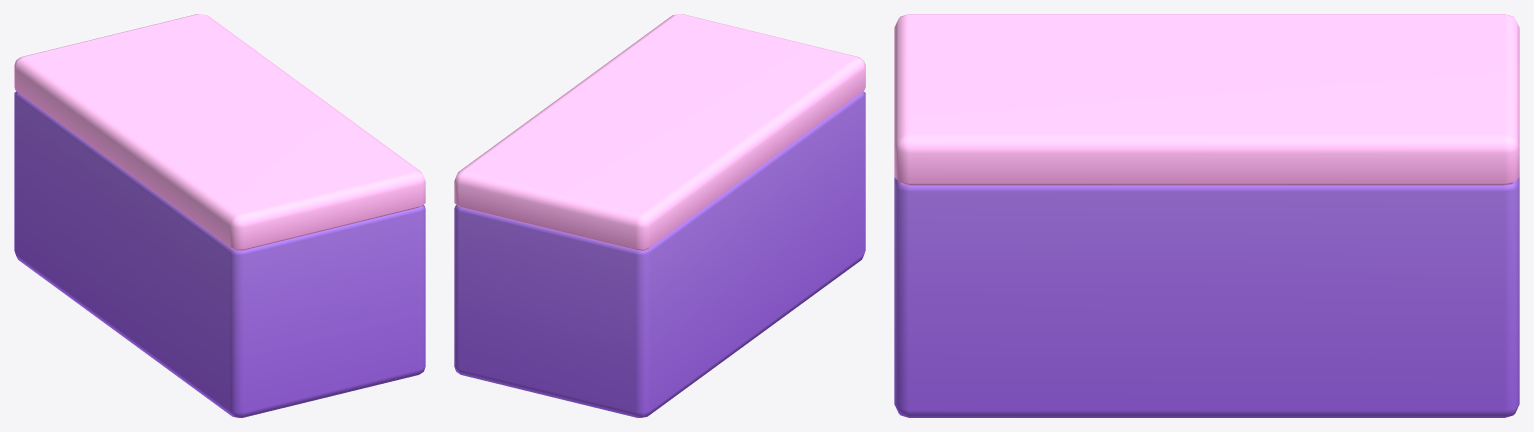
Rendered from Platform_12.glb.
3 views of the same model, side by side, from view 1: azimuth 30°, elevation 25°; view 2: azimuth 150°, elevation 25°; view 3: azimuth 270°, elevation 25° (orthographic). The views are drawn at different scales.
Visible parts, largest first — view 1: Platform_12; view 2: Platform_12; view 3: Platform_12.
Boxes of the visible parts, x1,y1,x2,y2 form: Platform_12: (14,14,425,417); Platform_12: (454,14,865,417); Platform_12: (894,14,1519,417).
Bounding box in the file's own units: 6 × 6 × 12.
1 material, 1 textured.
